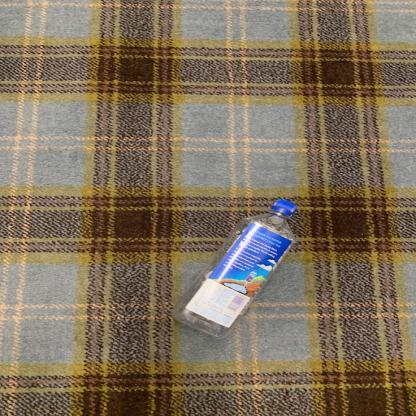trash: (169, 198, 303, 342)
